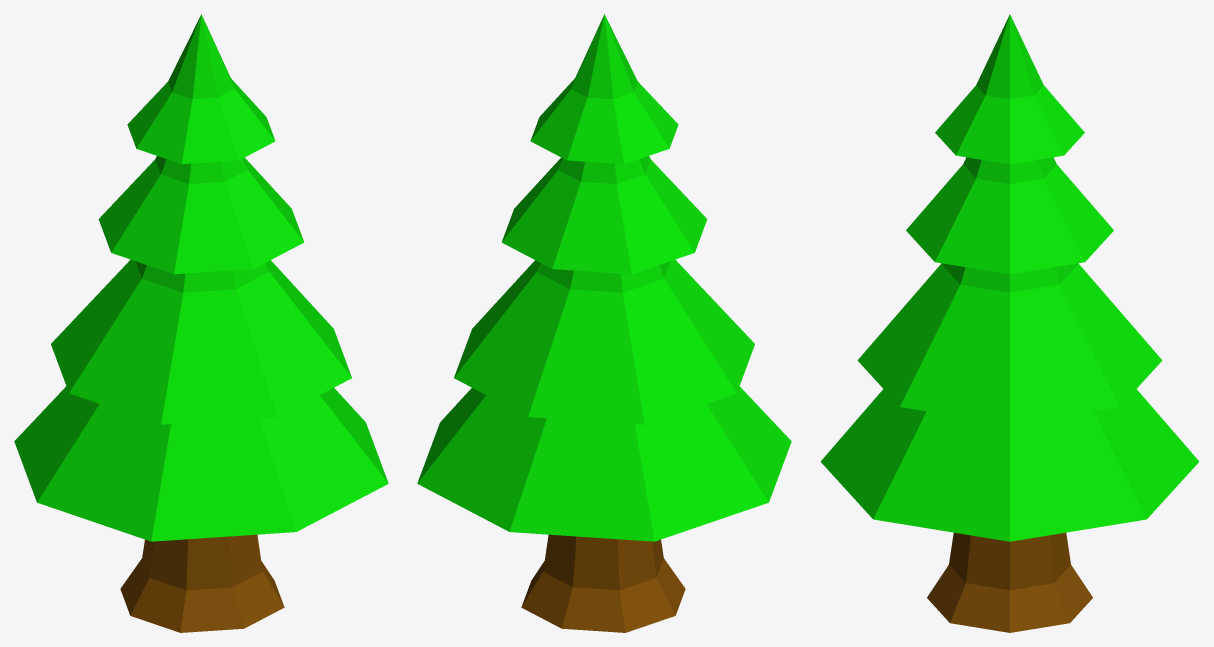
Rendered from pine.glb.
3 views of the same model, side by side, from view 1: azimuth 30°, elevation 25°; view 2: azimuth 150°, elevation 25°; view 3: azimuth 270°, elevation 25° (orthographic).
Parts seen in each view (by area): view 1: Plane; view 2: Plane; view 3: Plane.
Boxes of the visible parts, left/top/right/bottom form: Plane: left=14, top=14, right=388, bottom=632; Plane: left=417, top=14, right=791, bottom=632; Plane: left=820, top=14, right=1199, bottom=632.
Size of the model in its own units: 6.31 by 10.72 by 6.31.
